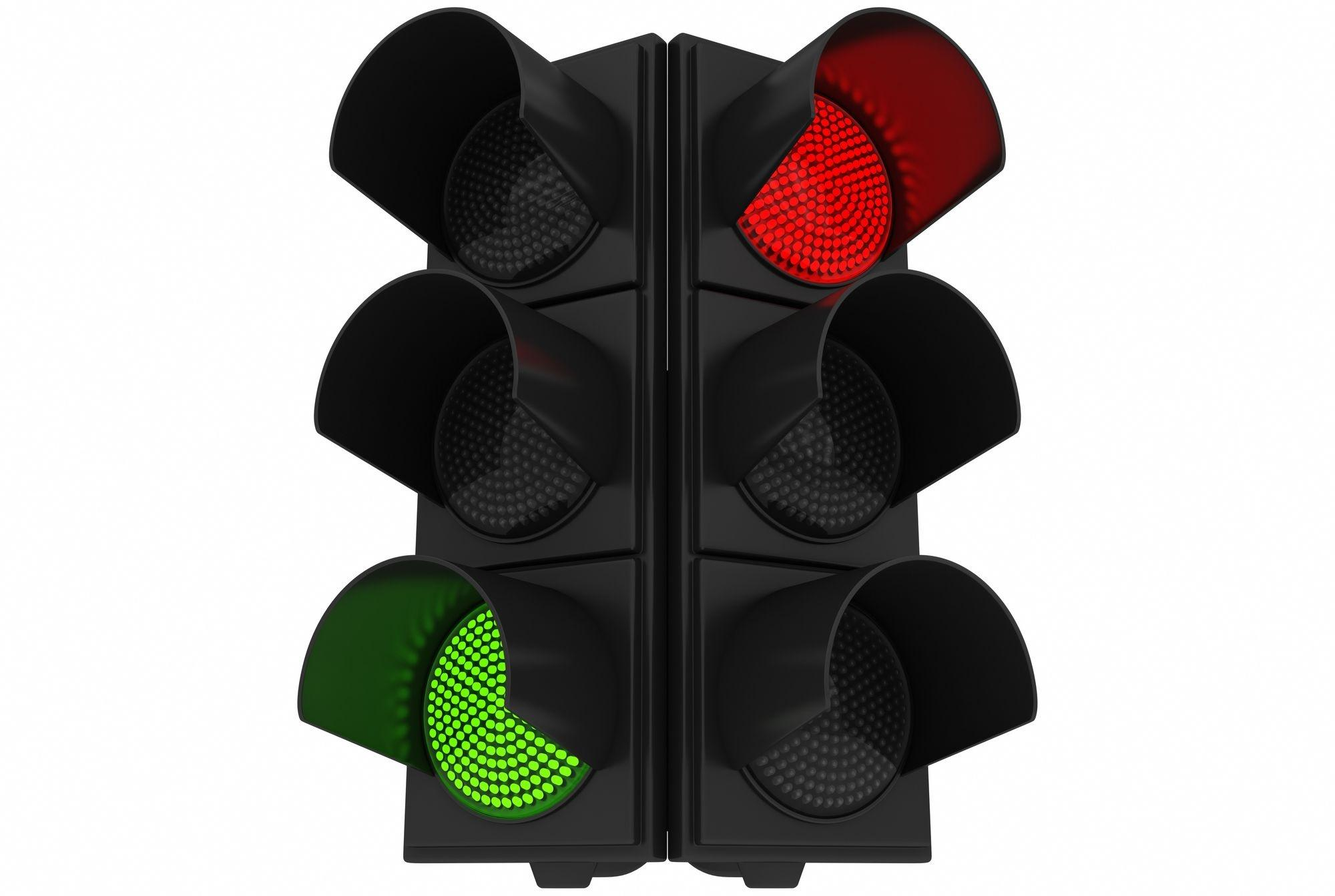Traffic light green: (223, 7, 672, 896)
